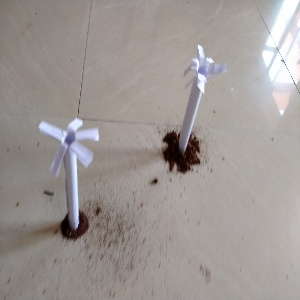weed: (35, 111, 108, 227), (167, 43, 220, 164)
